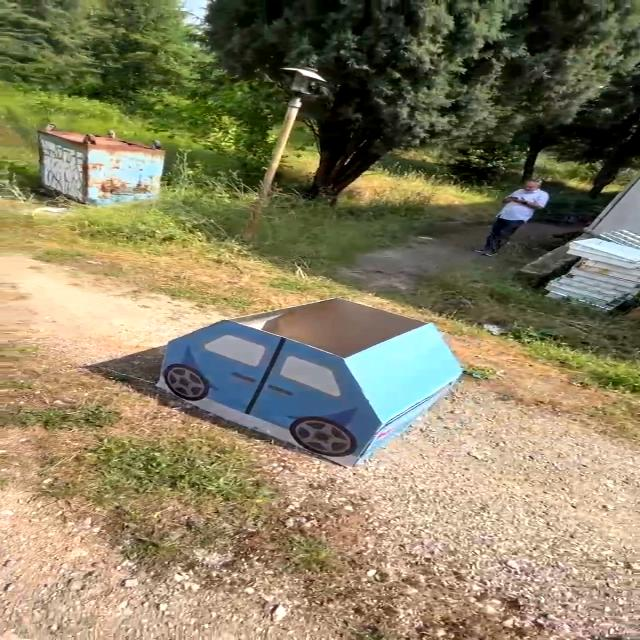blue_car: (128, 291, 481, 479)
